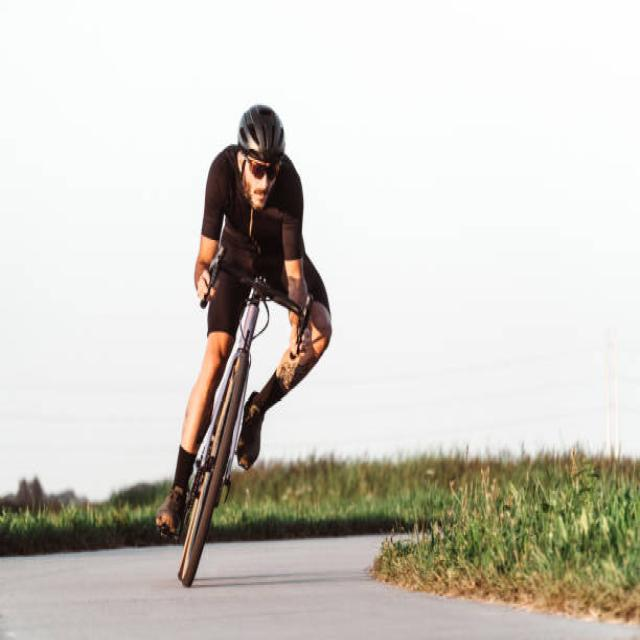bicycle: (156, 105, 331, 586)
